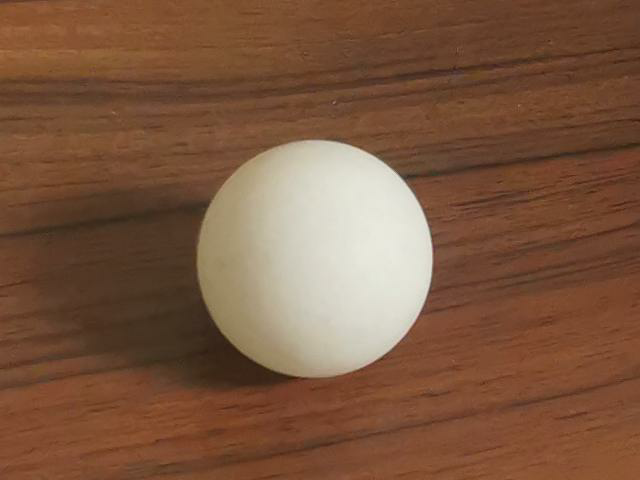ball: (198, 137, 435, 380)
